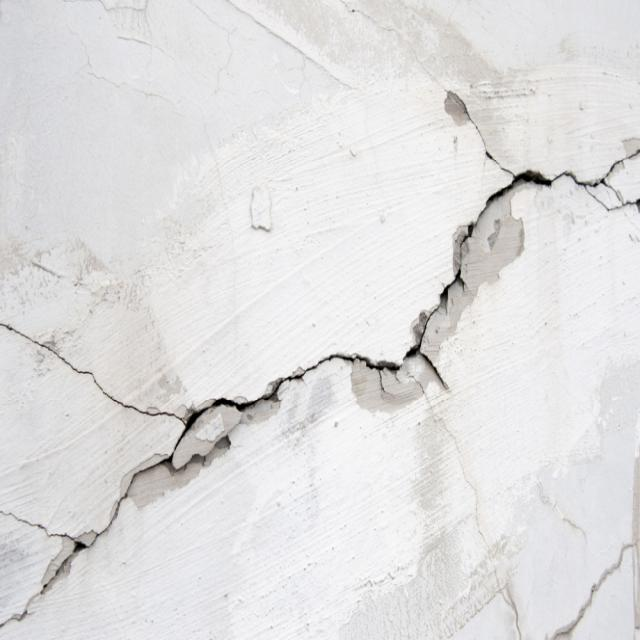Crack: (0, 174, 514, 639), (342, 1, 639, 213), (63, 9, 188, 130), (546, 540, 636, 639), (194, 0, 238, 94)
